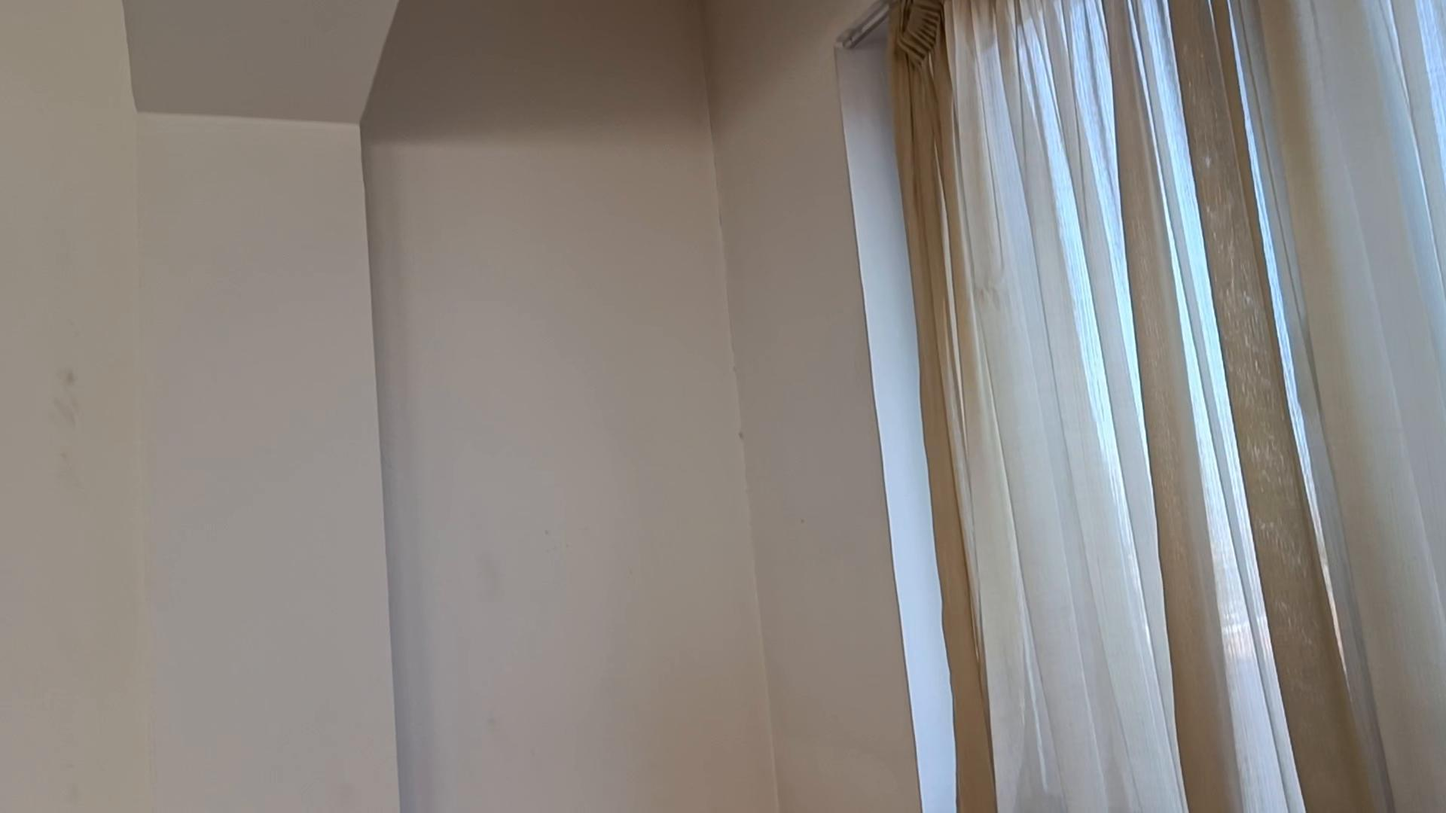ceiling: (123, 0, 398, 123)
pillar: (889, 0, 1445, 812)
wall: (0, 0, 916, 812), (1257, 0, 1445, 810), (1176, 1, 1322, 557)
